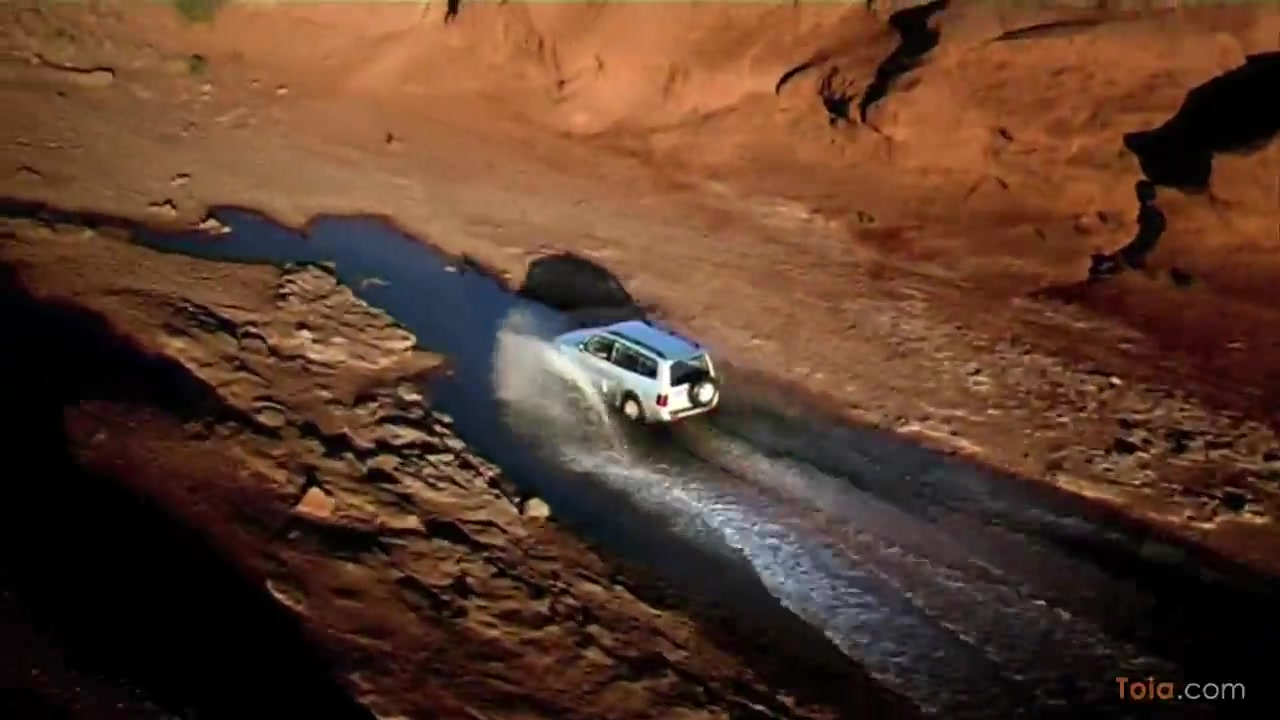car: (548, 318, 722, 430)
